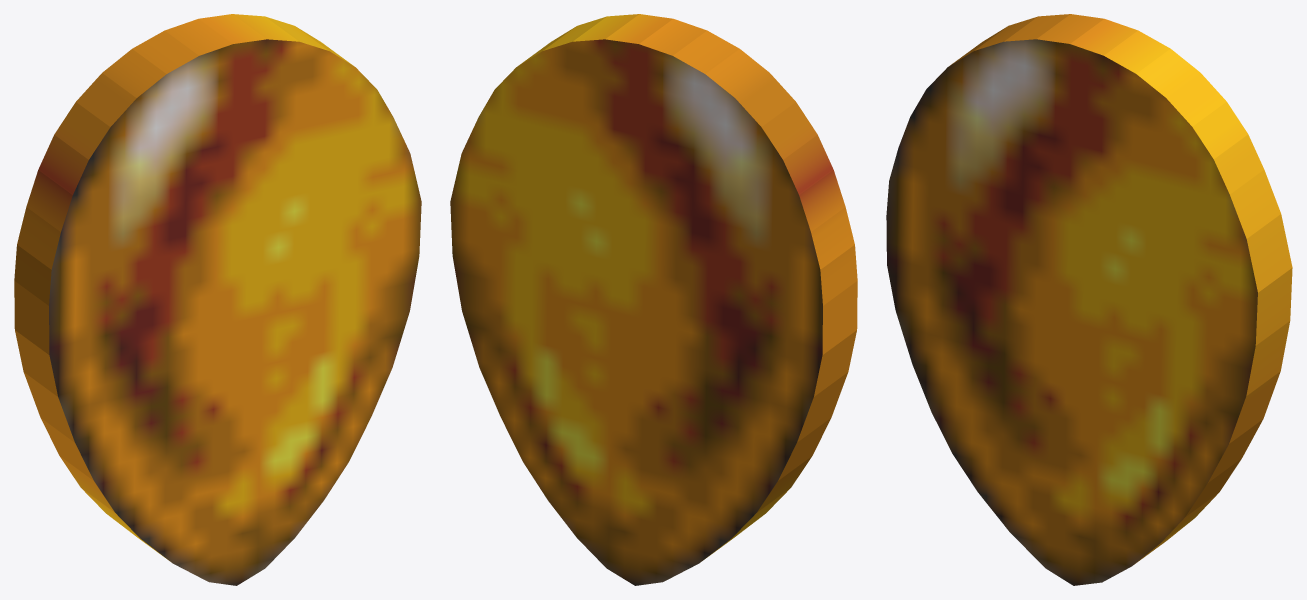
Rendered from Rarity_Legendary.glb.
3 renders of one model, left to right at view 1: azimuth 30°, elevation 25°; view 2: azimuth 150°, elevation 25°; view 3: azimuth 330°, elevation 25°, orthographic.
Visible parts, largest first — view 1: Circle; view 2: Circle; view 3: Circle.
Part boxes in pixels (x1,y1,x2,y2): Circle: (14,14,421,585); Circle: (450,14,857,585); Circle: (886,14,1292,585).
Size of the model in its own units: 0.4969 by 0.6914 by 0.08.
1 material, 1 textured.
